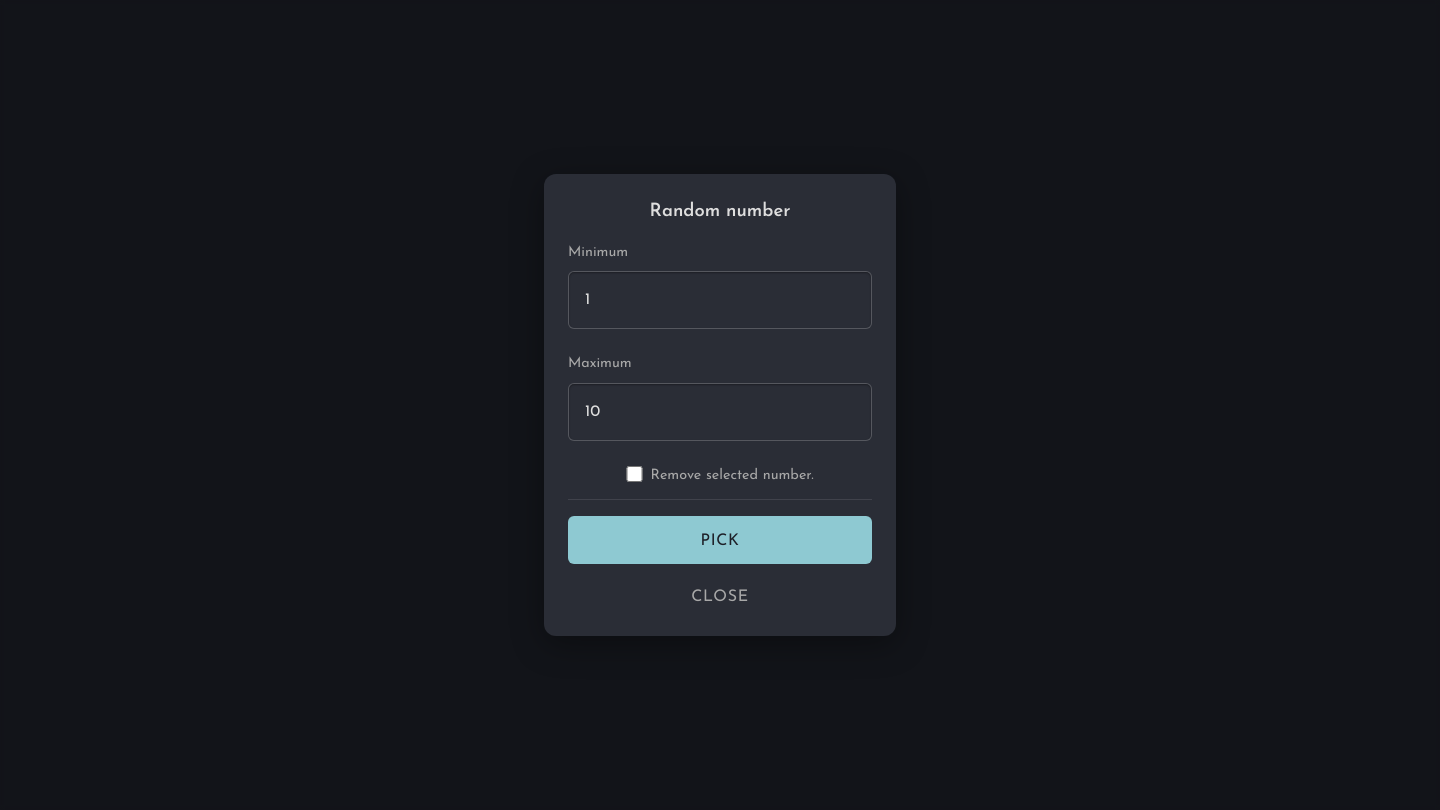
Test: Random number range dialog › Does not break the dialog when local storage write fails.
Replace the text in the number field labelled "Minimum" with "2" at [720, 300], box [568,271,872,329]
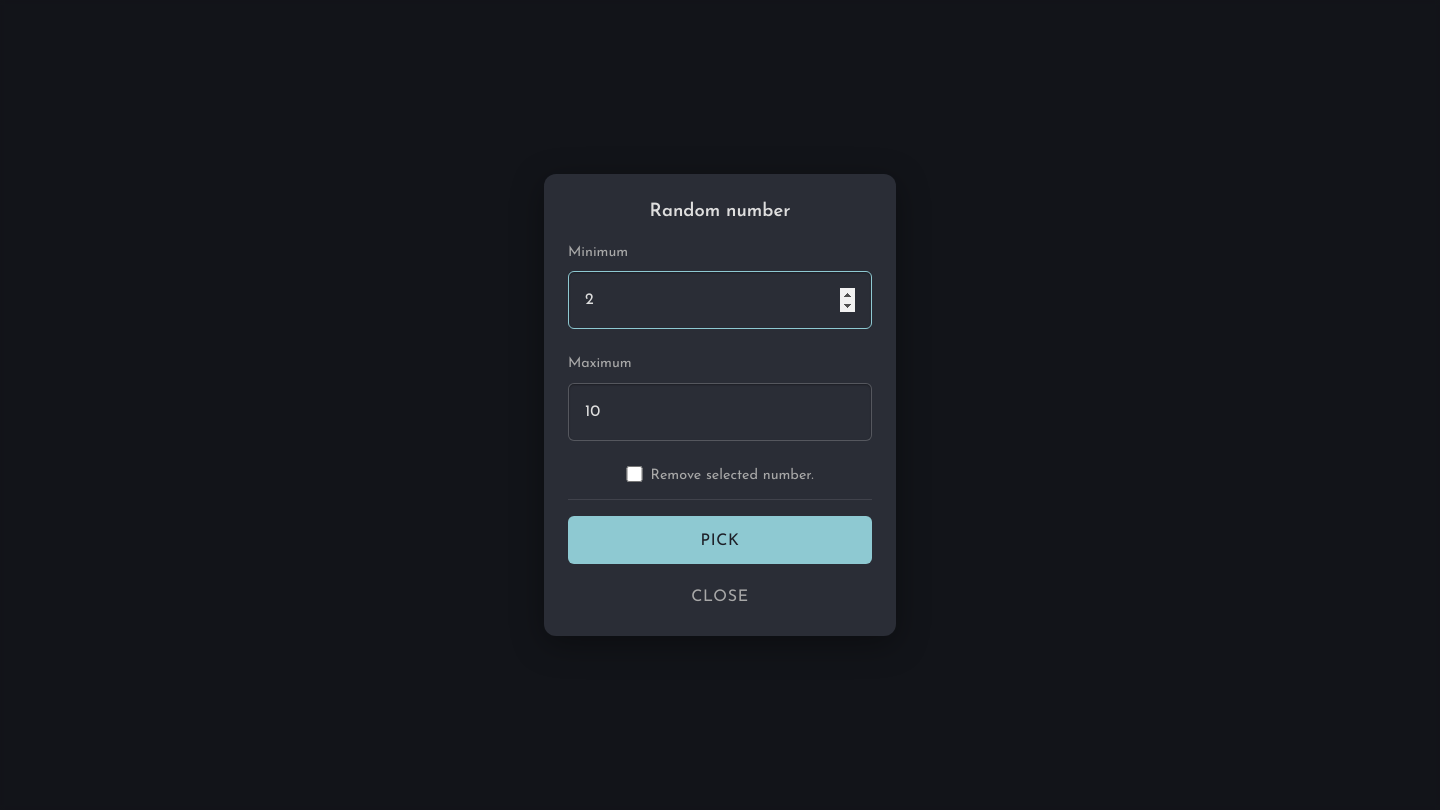
Replace the text in the number field labelled "Maximum" with "4" at [720, 412], box [568,383,872,441]
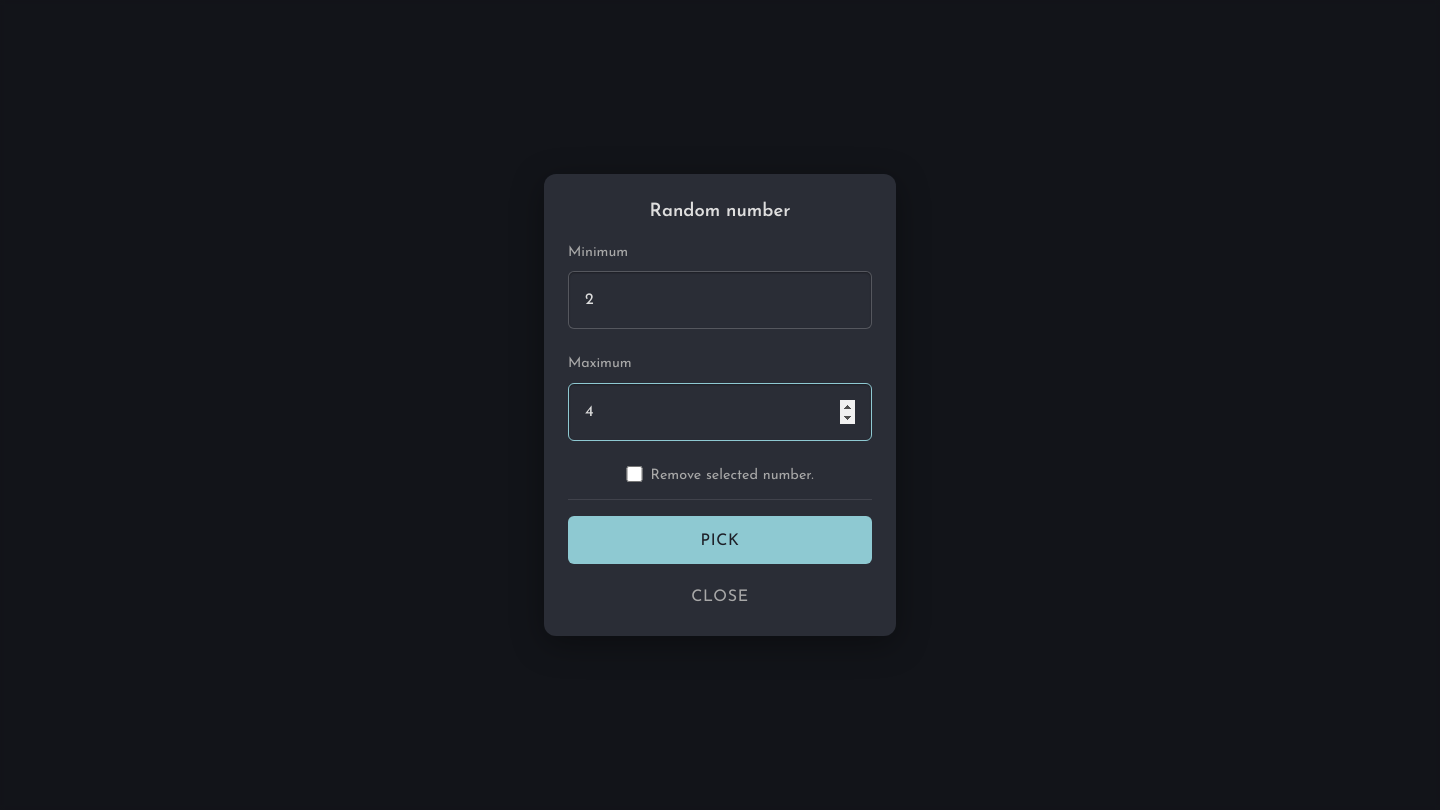
Click the button "Pick" at [720, 540], box [568,516,872,564]
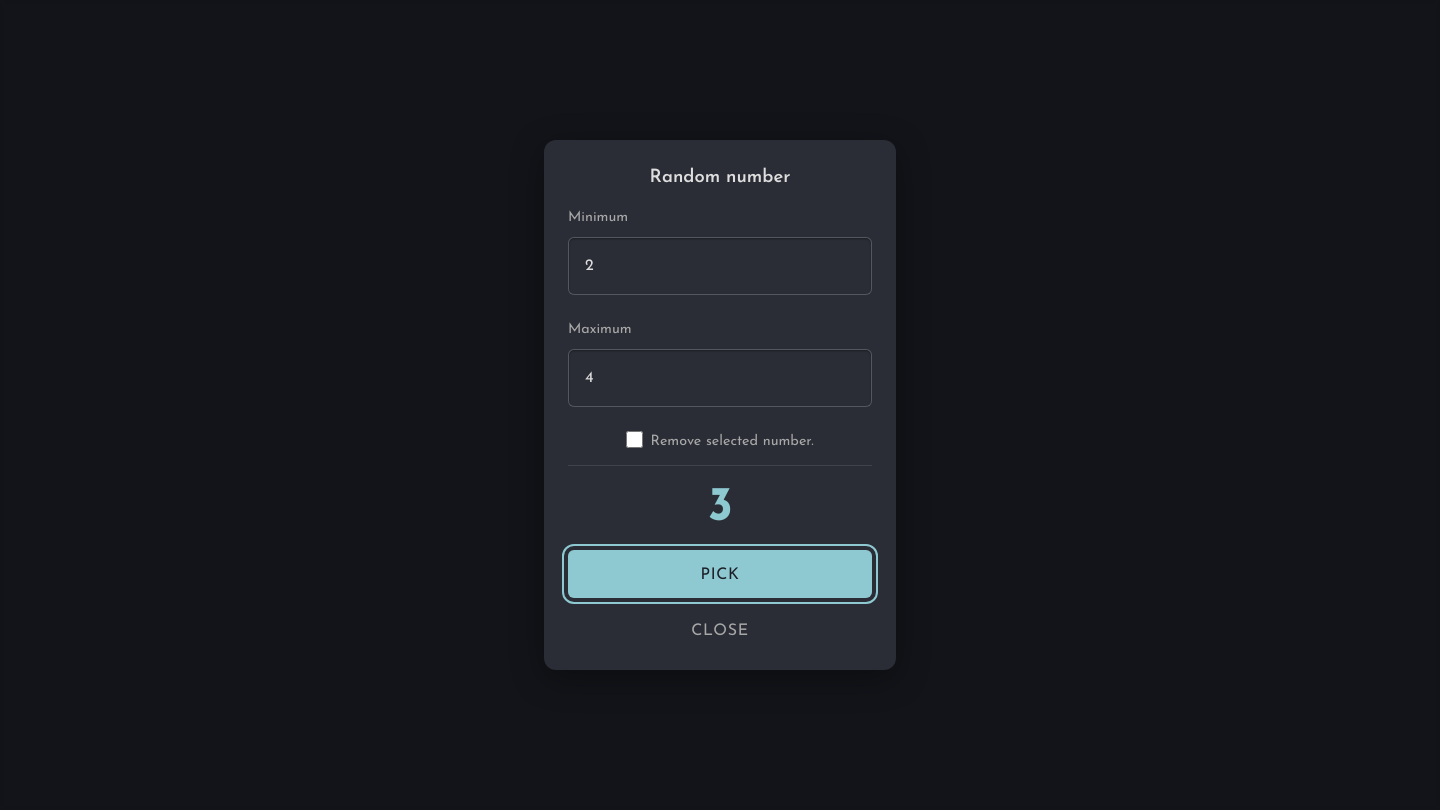
expect the text "3" is shown: met, box [708,484,732,532]
